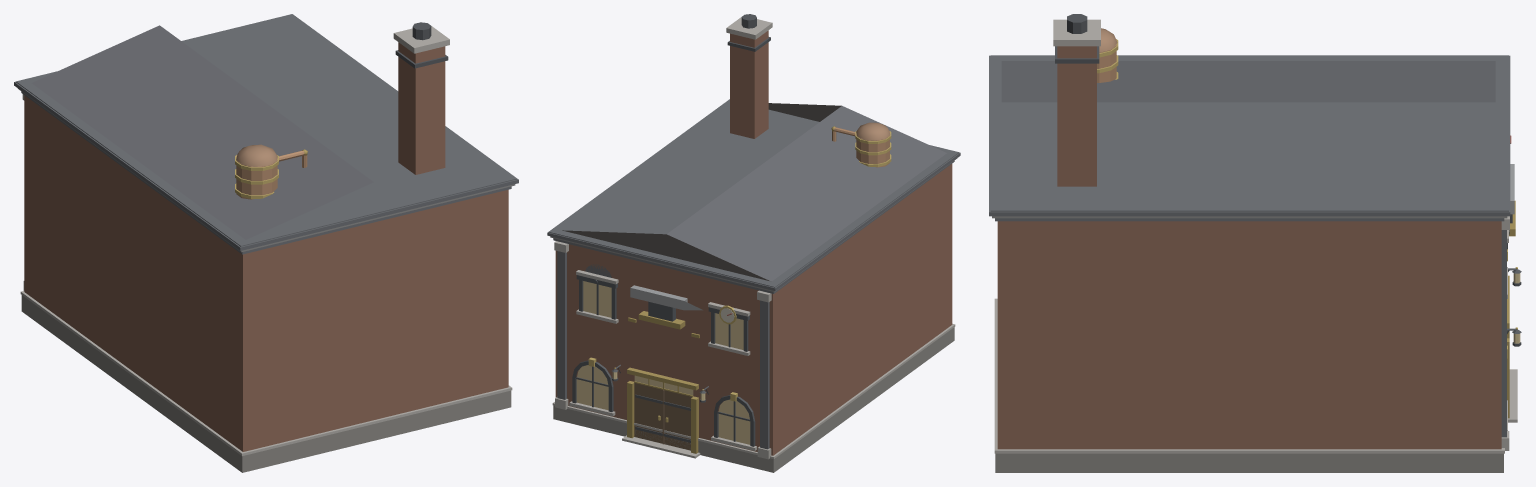
The model's file is centro-forja-d7910160.glb.
3 views of the same model, side by side, from view 1: azimuth 30°, elevation 25°; view 2: azimuth 150°, elevation 25°; view 3: azimuth 270°, elevation 25° (orthographic). The views are drawn at different scales.
Parts seen in each view (by area): view 1: centro_forja_wall, centro_forja_body; view 2: centro_forja_body, centro_forja_wall, centro_forja_lamp, centro_forja_glow; view 3: centro_forja_wall, centro_forja_body.
Boxes of the visible parts, x1=… form: centro_forja_wall: x1=21, y1=42, x2=511, y2=472; centro_forja_body: x1=14, y1=14, x2=518, y2=455; centro_forja_body: x1=547, y1=14, x2=960, y2=459; centro_forja_wall: x1=553, y1=30, x2=954, y2=472; centro_forja_lamp: x1=576, y1=281, x2=750, y2=444; centro_forja_glow: x1=630, y1=285, x2=702, y2=310; centro_forja_wall: x1=995, y1=46, x2=1503, y2=472; centro_forja_body: x1=989, y1=14, x2=1521, y2=453.
Bounding box in the file's own units: 9.34 × 11.8 × 13.43.
